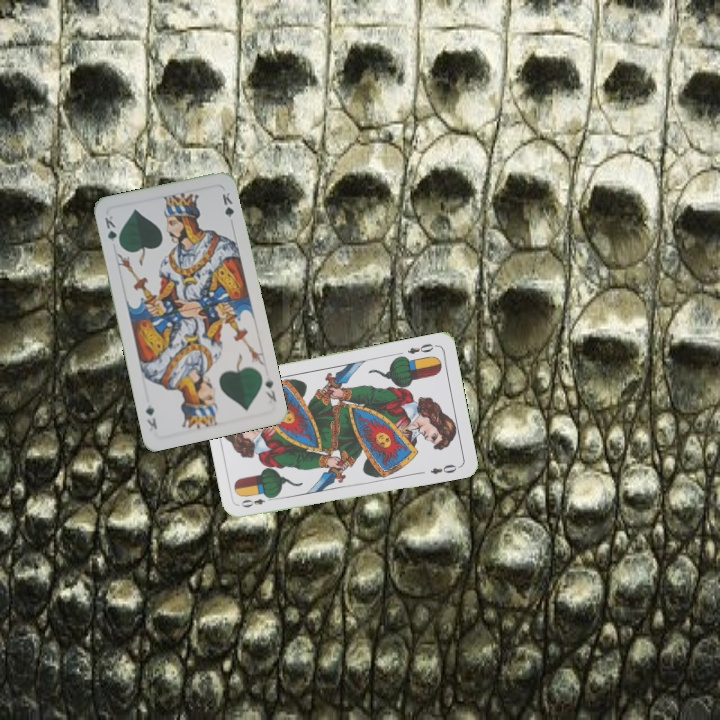EO: (237, 491, 277, 510), (403, 339, 436, 357)
GK: (100, 211, 123, 249), (261, 375, 279, 404)
